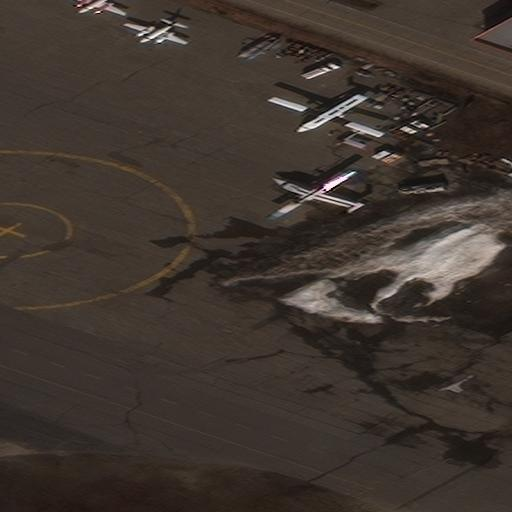Medium Civil Transport: (266, 89, 378, 138), (265, 169, 357, 219)
Small Civil Transport: (121, 21, 185, 45), (65, 0, 124, 17)
